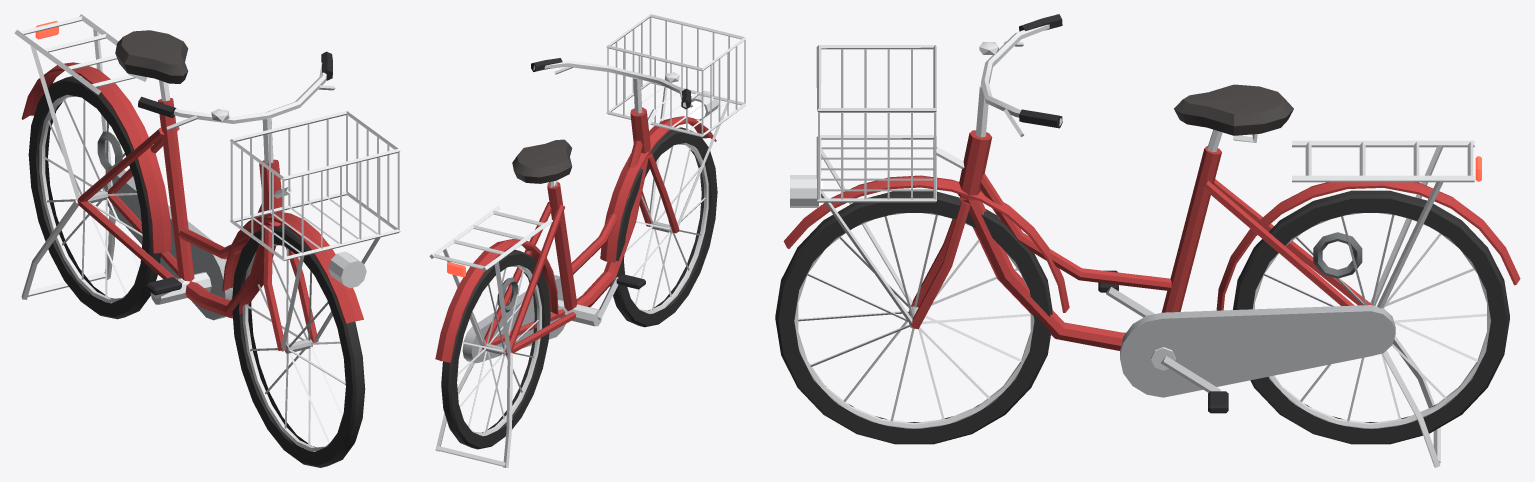
The model's file is bicycle.glb.
3 renders of one model, left to right at view 1: azimuth 30°, elevation 25°; view 2: azimuth 150°, elevation 25°; view 3: azimuth 270°, elevation 25°, orthographic. The views are drawn at different scales.
Visible parts, largest first — view 1: bicycle_body; view 2: bicycle_body; view 3: bicycle_body.
Part boxes in pixels (bbox=[...]): bicycle_body: bbox=[14, 14, 400, 467]; bicycle_body: bbox=[429, 14, 746, 467]; bicycle_body: bbox=[775, 14, 1520, 467].
Size of what is drawn, in the model's own units: 0.6067 by 1.01 by 1.8.
